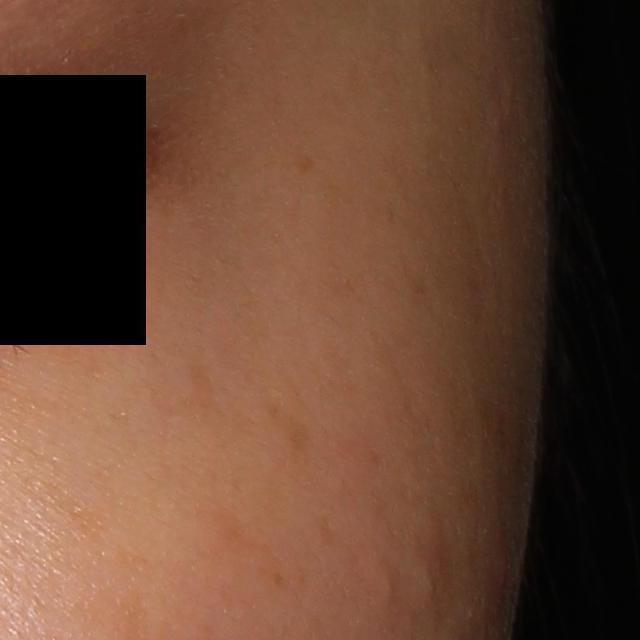comedo: (381, 573, 397, 597)
